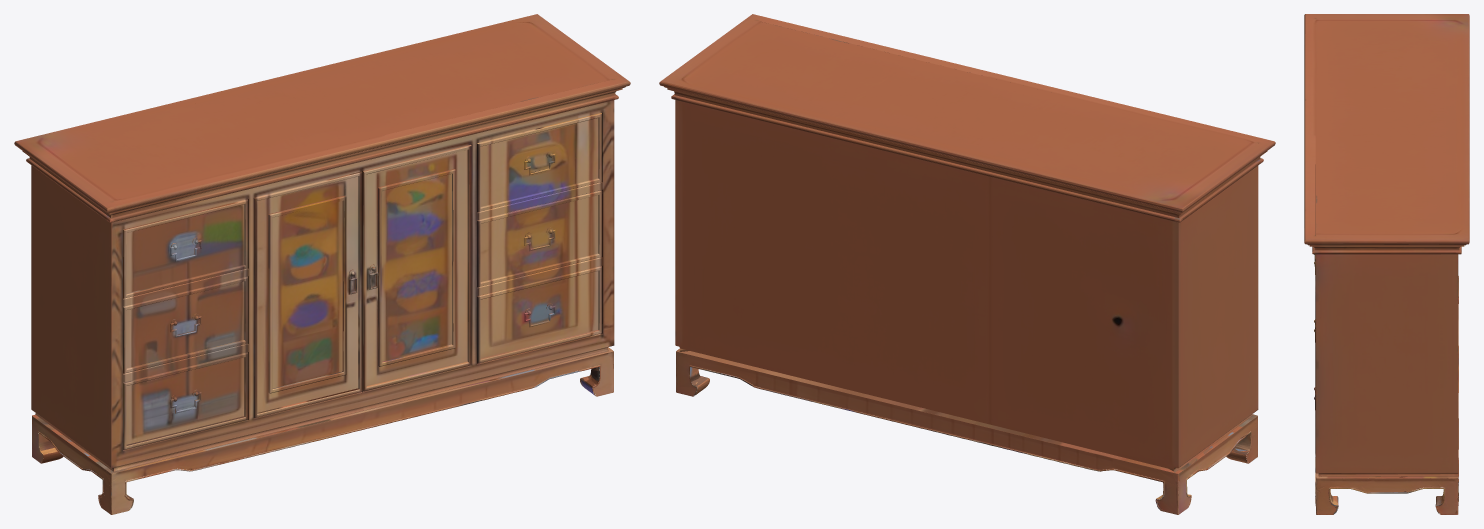
Rendered from edited_mesh.glb.
3 renders of one model, left to right at view 1: azimuth 30°, elevation 25°; view 2: azimuth 150°, elevation 25°; view 3: azimuth 270°, elevation 25°, orthographic. The views are drawn at different scales.
Parts seen in each view (by area): view 1: solid_001_wire; view 2: solid_001_wire; view 3: solid_001_wire.
Part boxes in pixels (left/top/right/bottom): solid_001_wire: left=14, top=14, right=630, bottom=514; solid_001_wire: left=659, top=14, right=1275, bottom=514; solid_001_wire: left=1304, top=14, right=1469, bottom=514.
Size of the model in its own units: 1.86 by 1.07 by 0.5733.
Materials: 1 (1 with a texture image).
